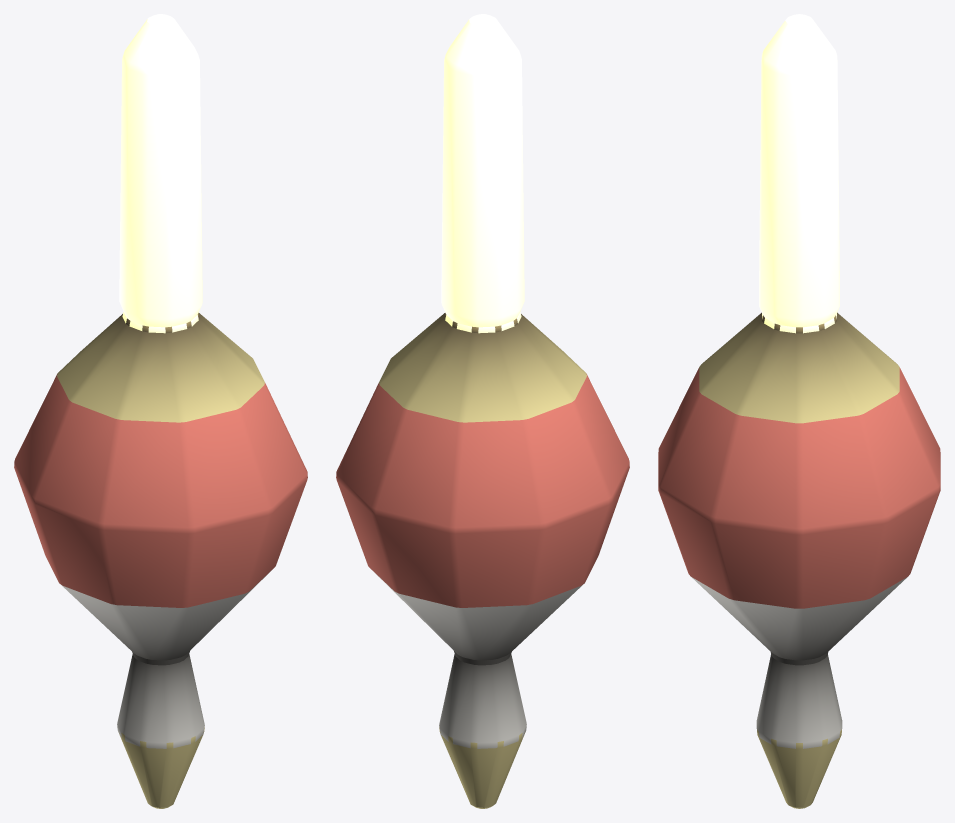
Rendered from sea_bobber_lure.glb.
The picture shows the model from 3 angles, left to right: view 1: azimuth 30°, elevation 25°; view 2: azimuth 150°, elevation 25°; view 3: azimuth 270°, elevation 25°; orthographic projection.
Visible parts, largest first — view 1: SeaBobberLure; view 2: SeaBobberLure; view 3: SeaBobberLure.
Part boxes in pixels (x1,y1,x2,y2): SeaBobberLure: (14,14,307,808); SeaBobberLure: (336,14,629,808); SeaBobberLure: (658,14,940,808).
Size of the model in its own units: 0.2069 by 0.61 by 0.1982.
